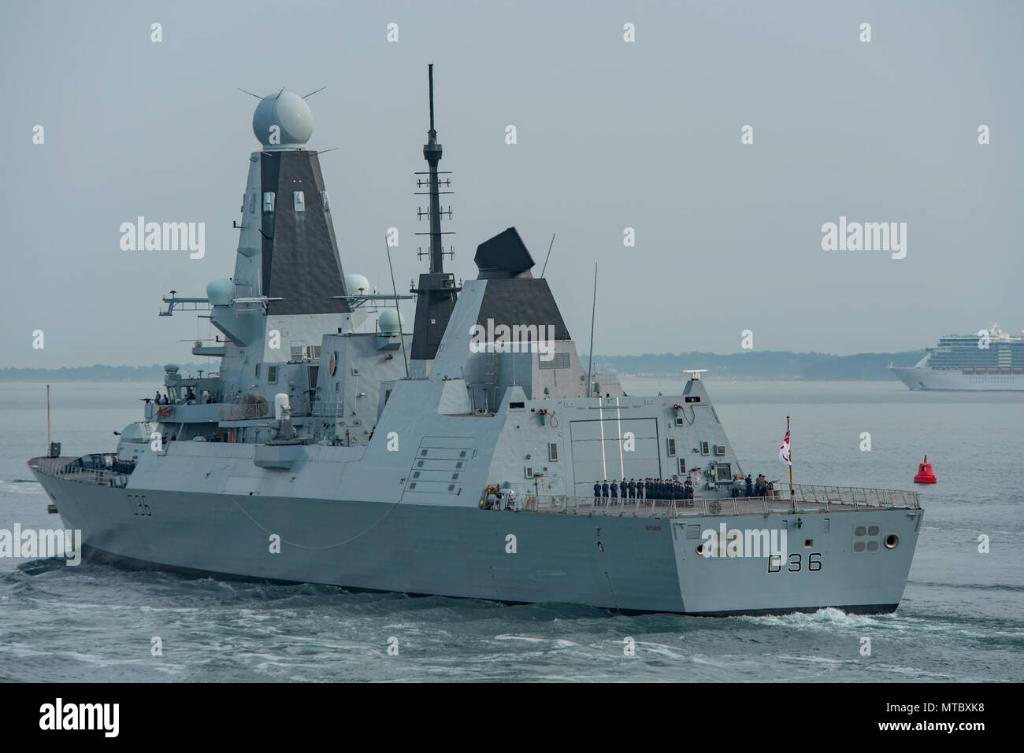Warship: (2, 70, 924, 628)
